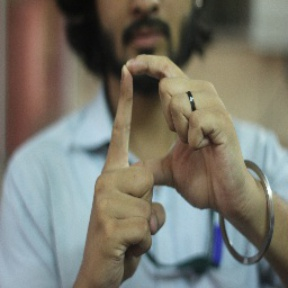D: (97, 49, 226, 205)
